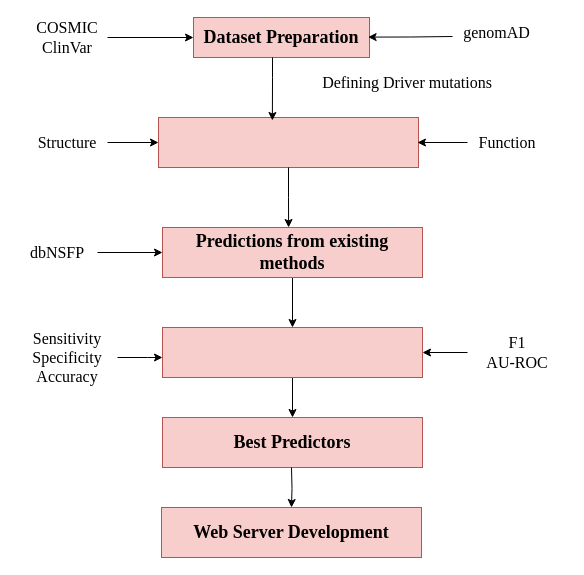
Some shapes in this 584 by 575 pixel diagram are drawn without their labels. Here are the shapes that lost their labels. From the top down, the box of each, then its label:
(158, 116, 418, 168): Annotation of Proteins Cancer types Dataset
(162, 326, 422, 378): Performance
